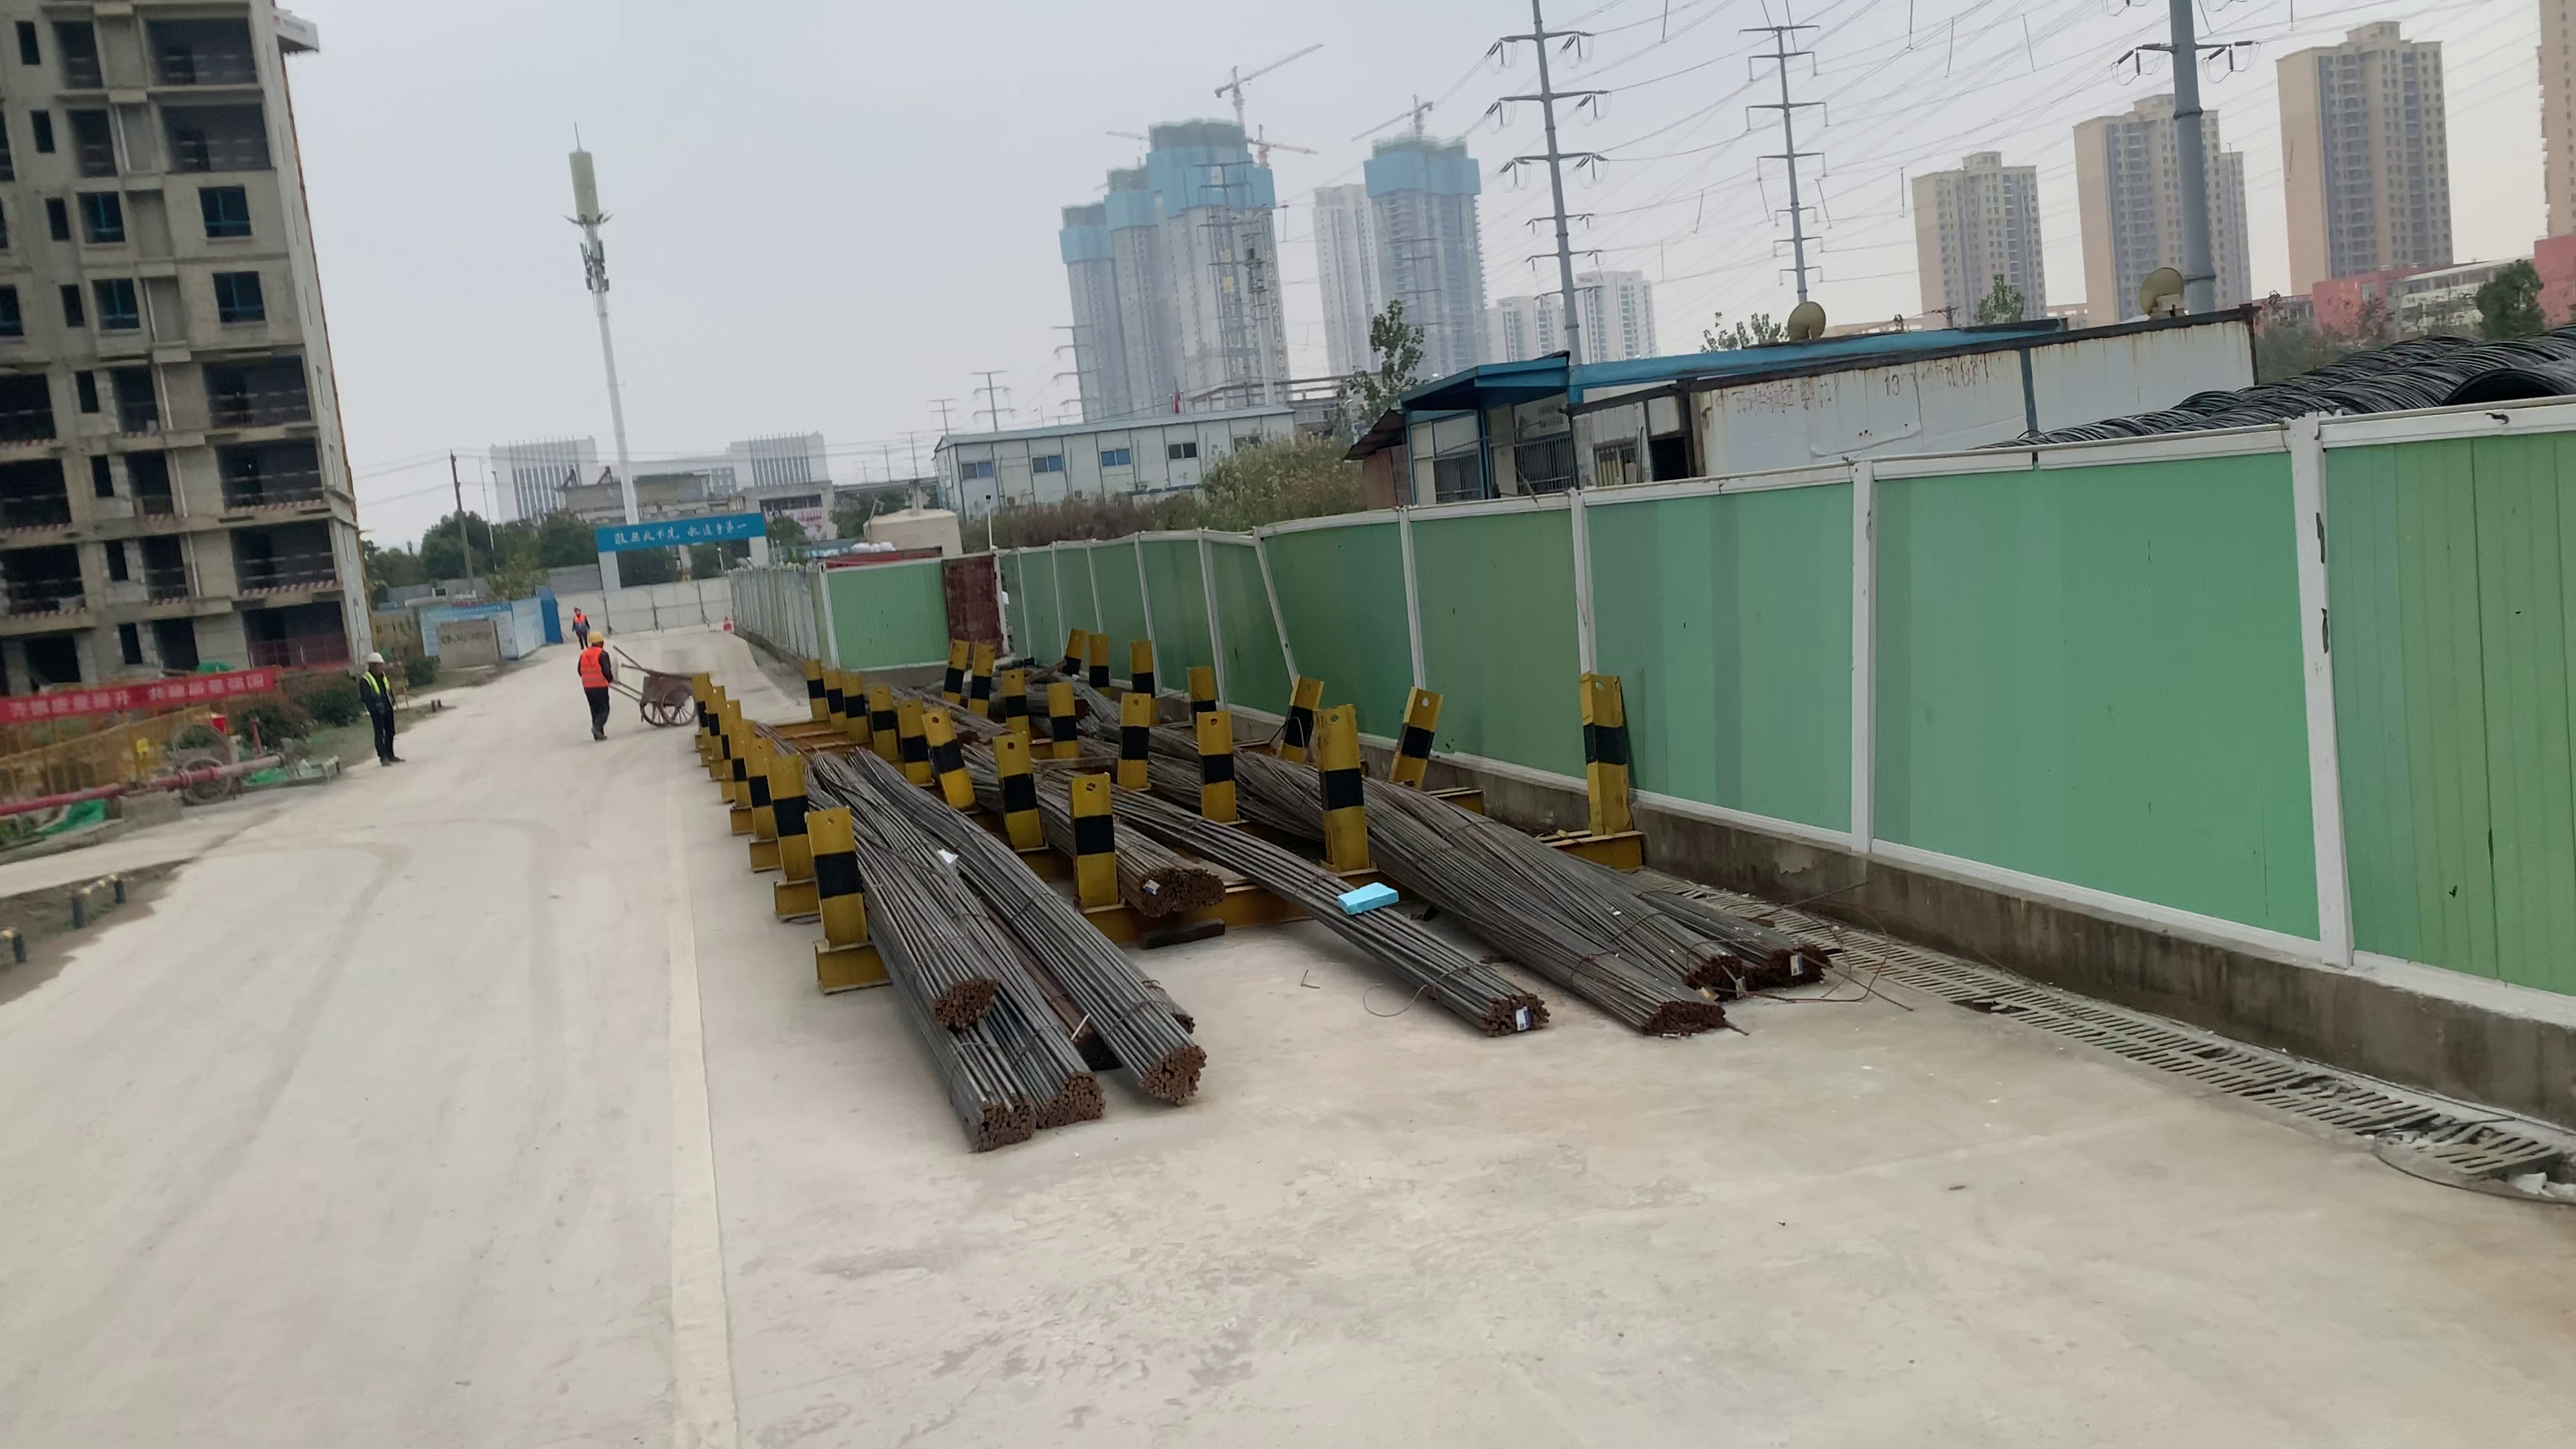rebar: (1141, 1047, 1212, 1104), (932, 978, 1005, 1030), (1479, 991, 1557, 1039), (964, 1099, 1035, 1146), (1638, 1001, 1729, 1039), (1039, 1079, 1109, 1123), (1764, 943, 1831, 987), (1684, 955, 1744, 994), (1139, 869, 1185, 918), (1074, 1021, 1111, 1072), (1189, 872, 1228, 911)
